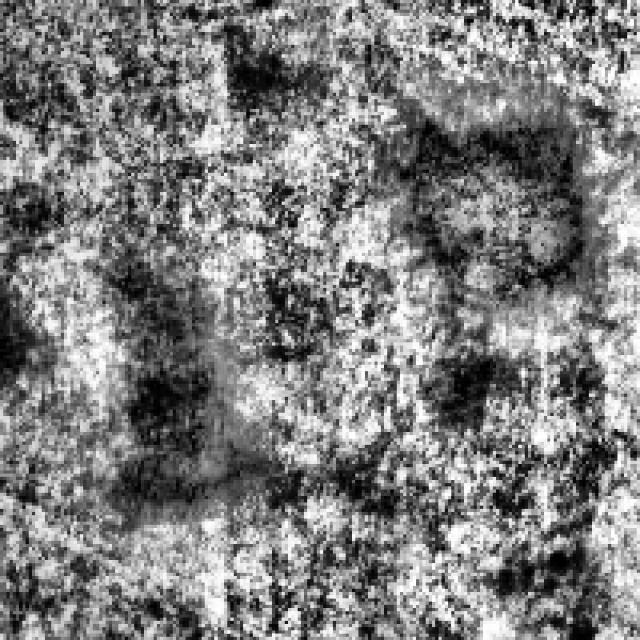Scratches: (364, 73, 612, 304), (96, 253, 256, 522)
